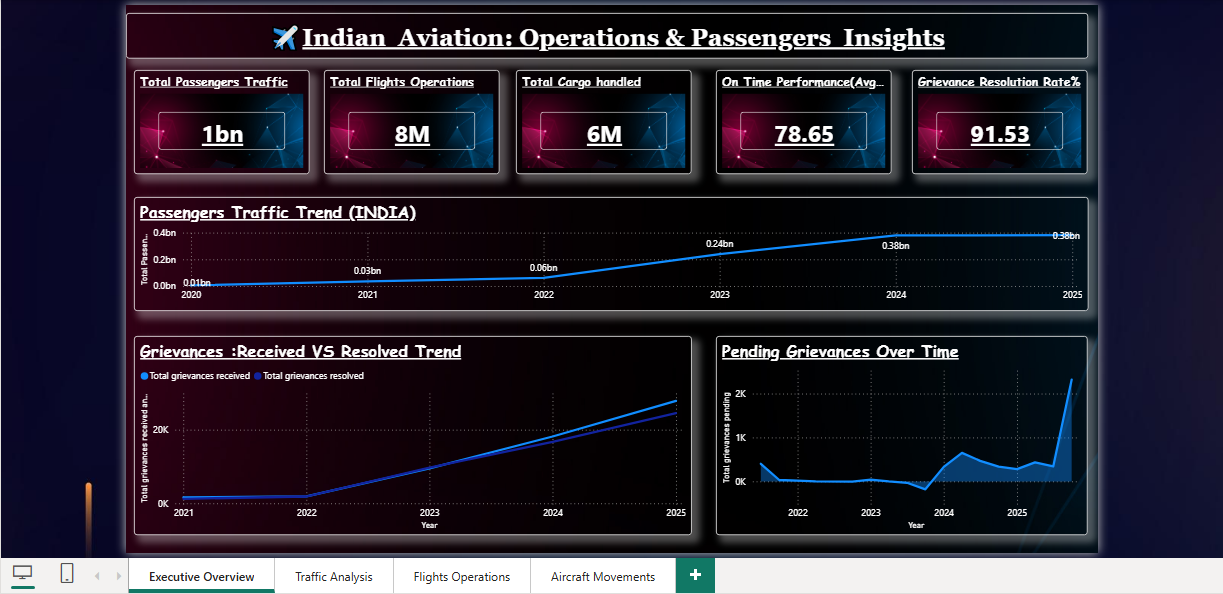

The page's visual inventory and layout, read from the dashboard file:
{"tool":"powerbi","page":{"name":"Executive Overview","canvas":[1280,720],"ordinal":0},"visuals":[{"type":"cardVisual","title":"Total Passengers Traffic","fields":{"Data":["fact daily traffic.Total Passengers"]},"box":[9.9,85,231,137.5],"z":0},{"type":"cardVisual","title":"Total Flights Operations","fields":{"Data":["fact daily traffic.Total Flights"]},"box":[260.8,85,231,137.5],"z":1000},{"type":"cardVisual","title":"Total Cargo handled","fields":{"Data":["fact daily traffic.Total cargo"]},"box":[513.1,85,231,137.5],"z":2000},{"type":"cardVisual","title":"On Time Performance(Avg%)","fields":{"Data":["fact daily traffic.AVG OTP All Air"]},"box":[776.7,85,231,137.5],"z":3000},{"type":"cardVisual","title":"Grievance Resolution Rate%","fields":{"Data":["fact daily traffic.Grievances Resolution Rate %"]},"box":[1034.6,85,231,137.5],"z":4000},{"type":"lineChart","title":"Grievances :Received VS Resolved Trend","fields":{"Category":["fact daily traffic.Date.Variation.Date Hierarchy.Year","fact daily traffic.Date.Variation.Date Hierarchy.Quarter","fact daily traffic.Date.Variation.Date Hierarchy.Month","fact daily traffic.Date.Variation.Date Hierarchy.Day"],"Y":["fact daily traffic.Total grievances received","fact daily traffic.Total grievances resolved"]},"box":[9.9,435.1,734.2,262.2],"z":5000},{"type":"areaChart","title":"Pending Grievances Over Time","fields":{"Y":["fact daily traffic.Total grievances pending"],"Category":["fact daily traffic.Date.Variation.Date Hierarchy.Year","fact daily traffic.Date.Variation.Date Hierarchy.Quarter","fact daily traffic.Date.Variation.Date Hierarchy.Month","fact daily traffic.Date.Variation.Date Hierarchy.Day"]},"box":[776.7,435.1,489,262.2],"z":6000},{"type":"textbox","box":[0,9.9,1265.7,59.5],"z":7000},{"type":"lineChart","title":"Passengers Traffic Trend (INDIA)","fields":{"Category":["fact daily traffic.Date.Variation.Date Hierarchy.Year","fact daily traffic.Date.Variation.Date Hierarchy.Quarter","fact daily traffic.Date.Variation.Date Hierarchy.Month","fact daily traffic.Date.Variation.Date Hierarchy.Day"],"Y":["fact daily traffic.Total Passengers"]},"box":[9.9,252.3,1255.7,150.2],"z":8000}]}

Visuals, with their boxes on the page's 1280x720 design canvas (x1, y1, x2, y2). These are canvas units, not pixel positions in the 1223x594 screenshot, which may show the page scaled, cropped or inside an application window:
"Total Passengers Traffic" cardVisual: <box>10,85,241,222</box>
"Total Flights Operations" cardVisual: <box>261,85,492,222</box>
"Total Cargo handled" cardVisual: <box>513,85,744,222</box>
"On Time Performance(Avg%)" cardVisual: <box>777,85,1008,222</box>
"Grievance Resolution Rate%" cardVisual: <box>1035,85,1266,222</box>
"Grievances :Received VS Resolved Trend" lineChart: <box>10,435,744,697</box>
"Pending Grievances Over Time" areaChart: <box>777,435,1266,697</box>
textbox: <box>0,10,1266,69</box>
"Passengers Traffic Trend (INDIA)" lineChart: <box>10,252,1266,402</box>
